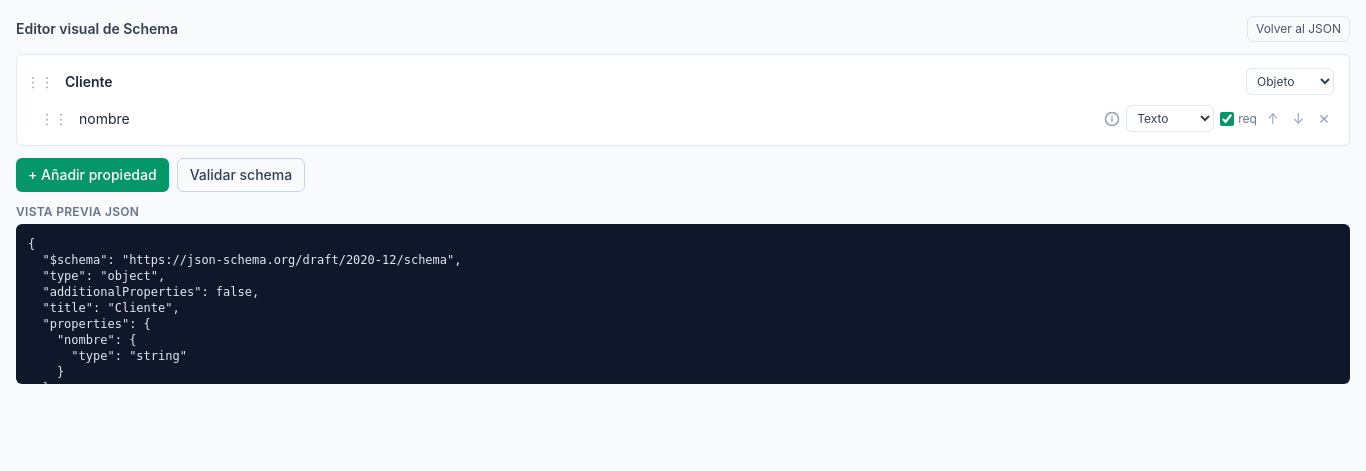
VisualSchemaEditor › muestra las incidencias cuando el schema no es válido
This screenshot has width=1366, height=471.
Click the button "Validar schema" at (241, 175), box [177,158,305,192]
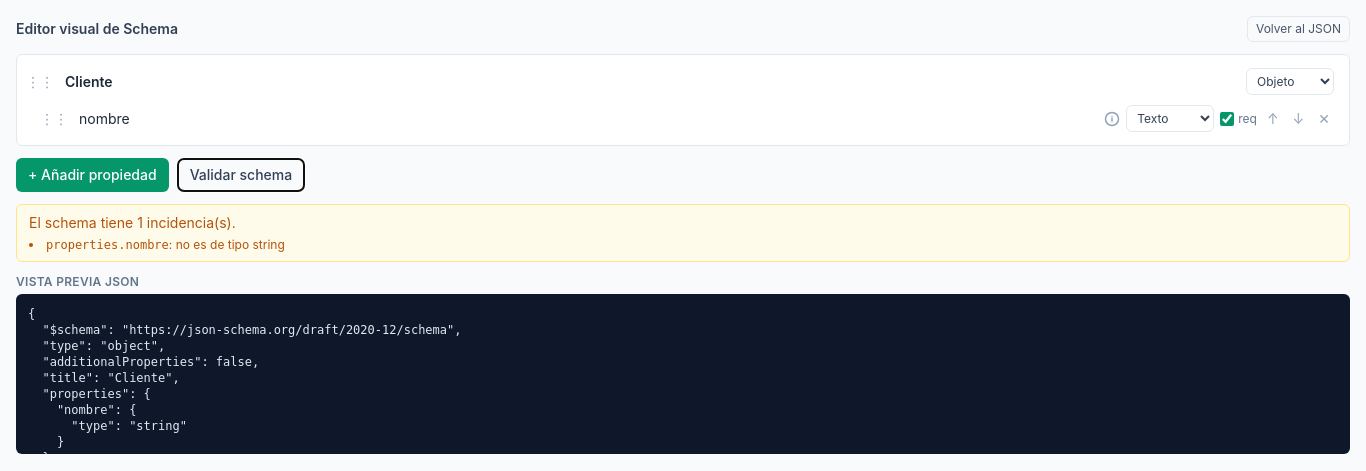
Now the text "El schema tiene 1 incidencia(s)." is shown, box [29,214,236,231]
Now the list item "properties.nombre: no es de tipo string" is shown, box [46,237,285,252]
